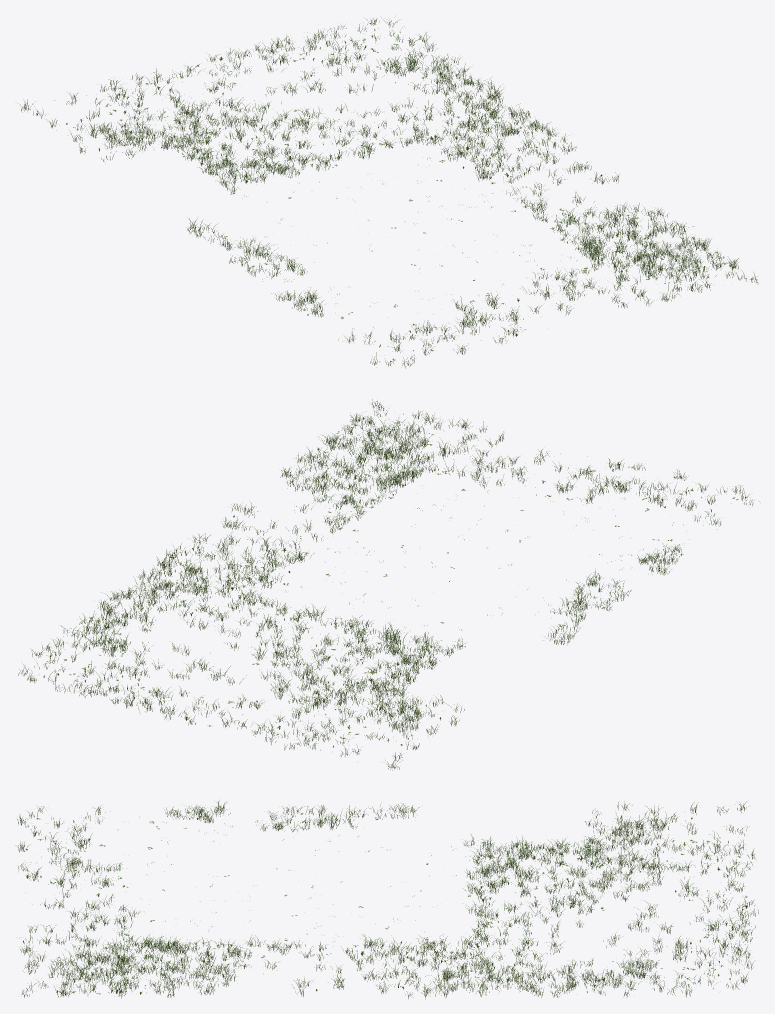
Rendered from natural-grass-east.glb.
3 views of the same model, one above another, from view 1: azimuth 30°, elevation 25°; view 2: azimuth 150°, elevation 25°; view 3: azimuth 270°, elevation 25° (orthographic). The views are drawn at different scales.
Parts seen in each view (by area): view 1: V10_WildGrass_lot_+03_+02, V10_WildGrass_lot_+04_+01, V10_WildGrass_lot_+04_-01, V10_WildGrass_lot_+04_+02, V10_WildGrass_lot_+03_+01, V10_WildGrass_lot_+04_+00, V10_WildGrass_lot_+05_+01, V10_WildGrass_lot_+03_-01, V10_WildGrass_lot_+03_+00, V10_WildGrass_lot_+05_-01, V10_WildGrass_lot_+05_+02, V10_WildGrass_lot_+05_+00; view 2: V10_WildGrass_lot_+03_+02, V10_WildGrass_lot_+04_+01, V10_WildGrass_lot_+04_-01, V10_WildGrass_lot_+04_+02, V10_WildGrass_lot_+03_+01, V10_WildGrass_lot_+04_+00, V10_WildGrass_lot_+05_+01, V10_WildGrass_lot_+03_-01, V10_WildGrass_lot_+03_+00, V10_WildGrass_lot_+05_-01, V10_WildGrass_lot_+05_+02, V10_WildGrass_lot_+05_+00; view 3: V10_WildGrass_lot_+03_+02, V10_WildGrass_lot_+04_+01, V10_WildGrass_lot_+04_-01, V10_WildGrass_lot_+03_+01, V10_WildGrass_lot_+04_+02, V10_WildGrass_lot_+05_+01, V10_WildGrass_lot_+04_+00, V10_WildGrass_lot_+03_-01, V10_WildGrass_lot_+05_-01, V10_WildGrass_lot_+03_+00, V10_WildGrass_lot_+05_+02, V10_WildGrass_lot_+05_+00.
Part boxes in pixels (x1,y1,x2,y2): V10_WildGrass_lot_+03_+02: [20, 64, 266, 161]; V10_WildGrass_lot_+04_+01: [271, 78, 533, 181]; V10_WildGrass_lot_+04_-01: [496, 226, 711, 314]; V10_WildGrass_lot_+04_+02: [197, 22, 442, 126]; V10_WildGrass_lot_+03_+01: [177, 124, 337, 237]; V10_WildGrass_lot_+04_+00: [404, 157, 635, 262]; V10_WildGrass_lot_+05_+01: [443, 72, 576, 157]; V10_WildGrass_lot_+03_-01: [307, 280, 525, 367]; V10_WildGrass_lot_+03_+00: [203, 220, 442, 311]; V10_WildGrass_lot_+05_-01: [648, 218, 758, 283]; V10_WildGrass_lot_+05_+02: [366, 17, 470, 84]; V10_WildGrass_lot_+05_+00: [539, 142, 669, 228]; V10_WildGrass_lot_+03_+02: [220, 662, 464, 770]; V10_WildGrass_lot_+04_+01: [126, 545, 382, 667]; V10_WildGrass_lot_+04_-01: [333, 410, 587, 505]; V10_WildGrass_lot_+04_+02: [48, 617, 300, 726]; V10_WildGrass_lot_+03_+01: [314, 598, 577, 689]; V10_WildGrass_lot_+04_+00: [247, 469, 478, 576]; V10_WildGrass_lot_+05_+01: [95, 535, 228, 619]; V10_WildGrass_lot_+03_-01: [520, 458, 759, 555]; V10_WildGrass_lot_+03_+00: [449, 530, 680, 631]; V10_WildGrass_lot_+05_-01: [296, 399, 405, 472]; V10_WildGrass_lot_+05_+02: [18, 611, 127, 682]; V10_WildGrass_lot_+05_+00: [195, 465, 330, 545]; V10_WildGrass_lot_+03_+02: [573, 801, 755, 893]; V10_WildGrass_lot_+04_+01: [379, 884, 586, 977]; V10_WildGrass_lot_+04_-01: [19, 886, 188, 978]; V10_WildGrass_lot_+03_+01: [387, 803, 582, 893]; V10_WildGrass_lot_+04_+02: [580, 888, 758, 977]; V10_WildGrass_lot_+05_+01: [379, 964, 582, 999]; V10_WildGrass_lot_+04_+00: [181, 894, 386, 977]; V10_WildGrass_lot_+03_-01: [15, 806, 185, 890]; V10_WildGrass_lot_+05_-01: [21, 966, 187, 998]; V10_WildGrass_lot_+03_+00: [181, 800, 386, 888]; V10_WildGrass_lot_+05_+02: [579, 966, 748, 997]; V10_WildGrass_lot_+05_+00: [184, 967, 392, 996].
Size of the model in its own units: 11.61 by 0.3666 by 18.83.
Materials: 4 (2 with a texture image).
